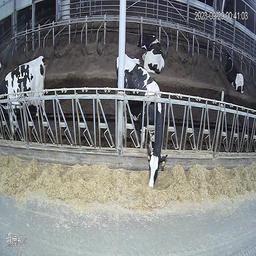cow: (116, 53, 166, 190), (0, 58, 46, 128), (137, 31, 165, 75), (223, 52, 245, 95)
